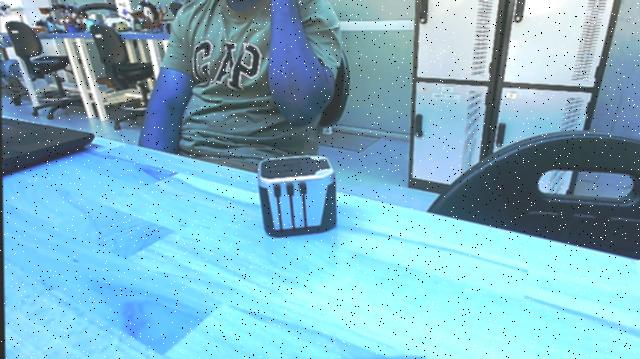adapter: (251, 155, 340, 239)
